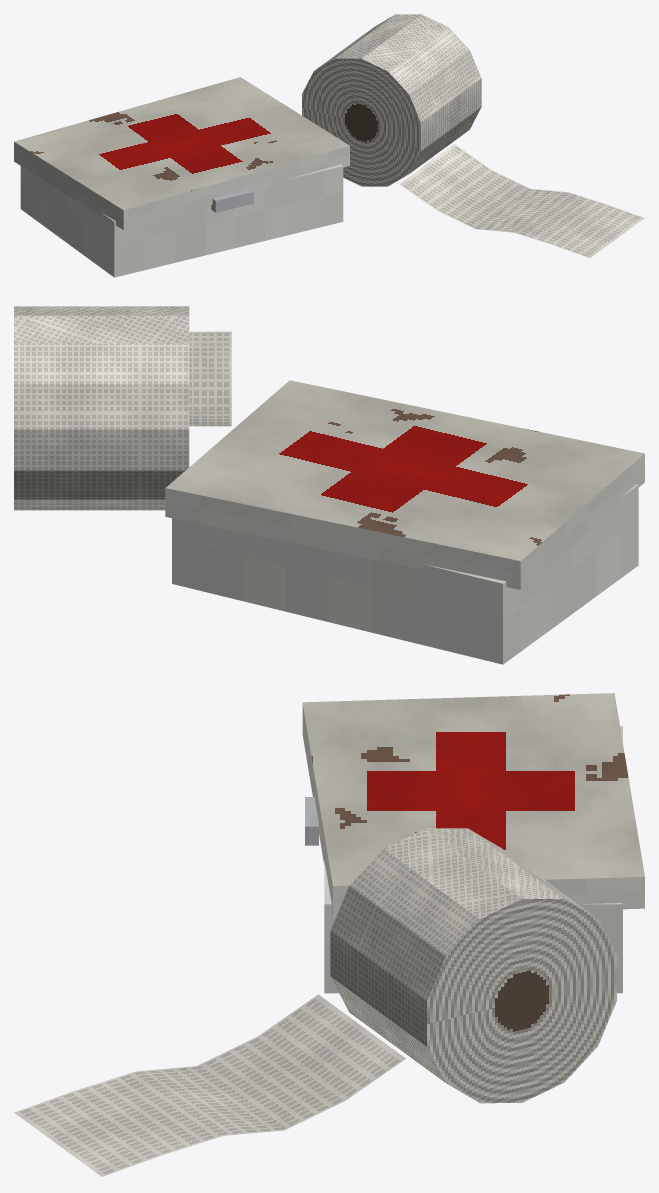
File: item_bandage.glb
3 views of the same model, one above another, from view 1: azimuth 30°, elevation 25°; view 2: azimuth 150°, elevation 25°; view 3: azimuth 270°, elevation 25° (orthographic). The views are drawn at different scales.
Visible parts, largest first — view 1: bandage; view 2: bandage; view 3: bandage.
Part boxes in pixels (x1=…): bandage: x1=14, y1=14, x2=644, y2=277; bandage: x1=14, y1=306, x2=644, y2=664; bandage: x1=14, y1=693, x2=644, y2=1176.
Size of the model in its own units: 0.2466 by 0.0655 by 0.1795.
6 materials, 6 textured.
